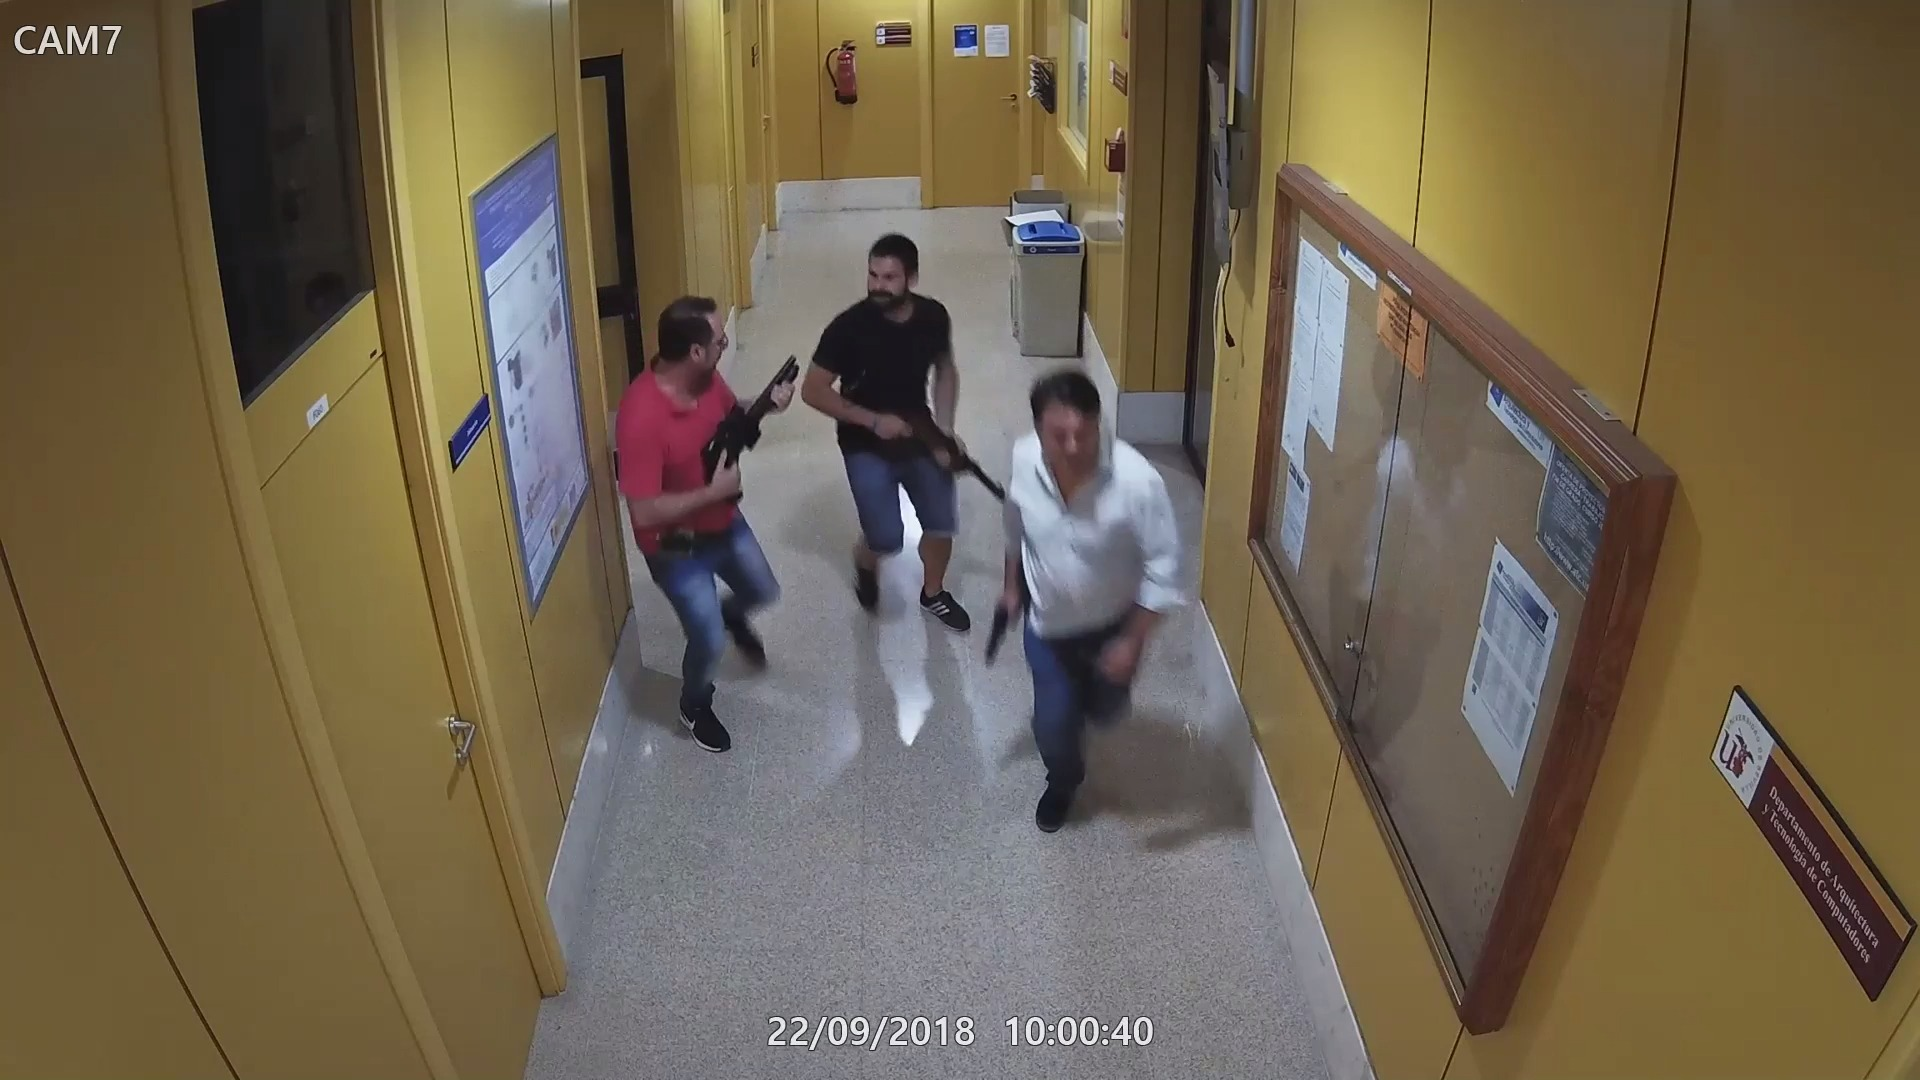Handgun: (981, 593, 1017, 670)
Short_rifle: (698, 351, 803, 495), (885, 406, 1009, 510)
